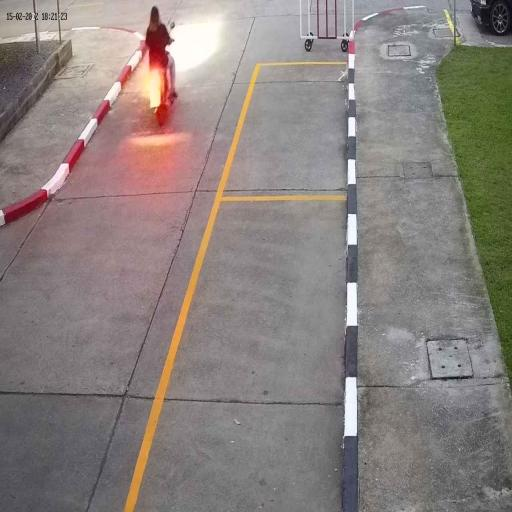motorcycle: (145, 48, 180, 128)
